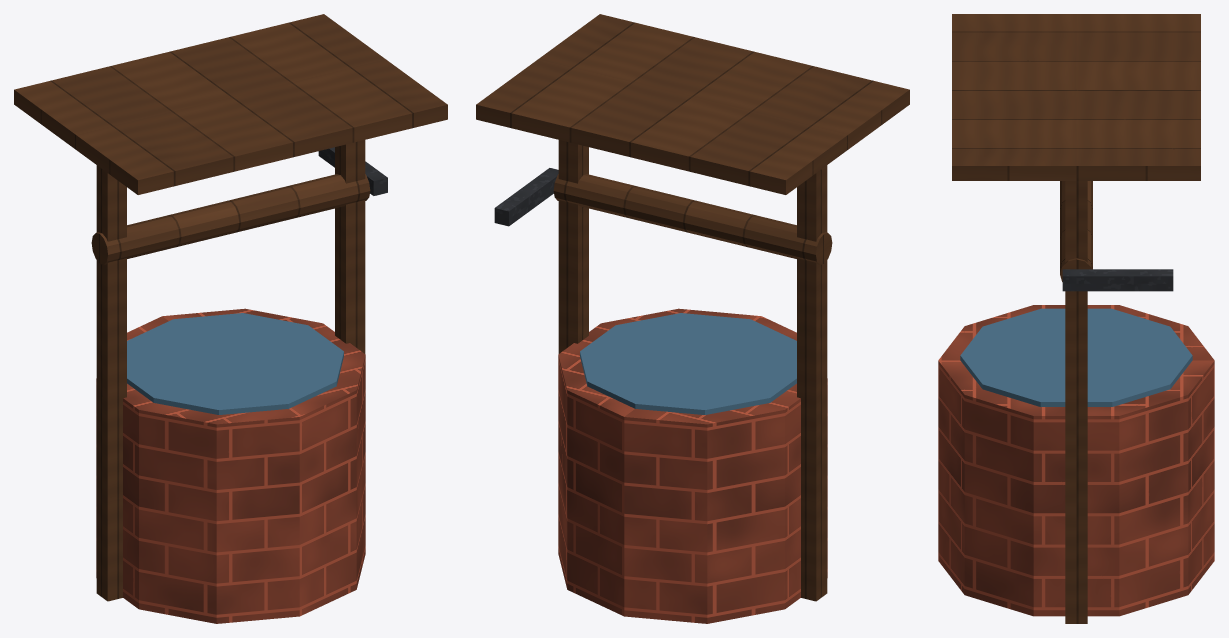
The model's file is studnia.glb.
3 renders of one model, left to right at view 1: azimuth 30°, elevation 25°; view 2: azimuth 150°, elevation 25°; view 3: azimuth 270°, elevation 25°, orthographic.
Parts seen in each view (by area): view 1: studnia; view 2: studnia; view 3: studnia.
Part boxes in pixels (x1,y1,x2,y2): studnia: (14, 14, 447, 623); studnia: (476, 14, 909, 623); studnia: (938, 14, 1214, 623).
Bounding box in the file's own units: 1.3 × 1.88 × 1.
Materials: 4 (3 with a texture image).
